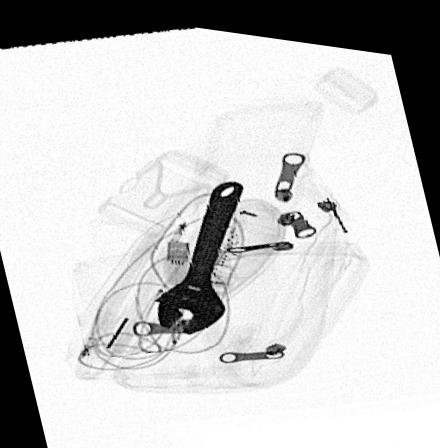Wrench: (157, 173, 244, 329)
